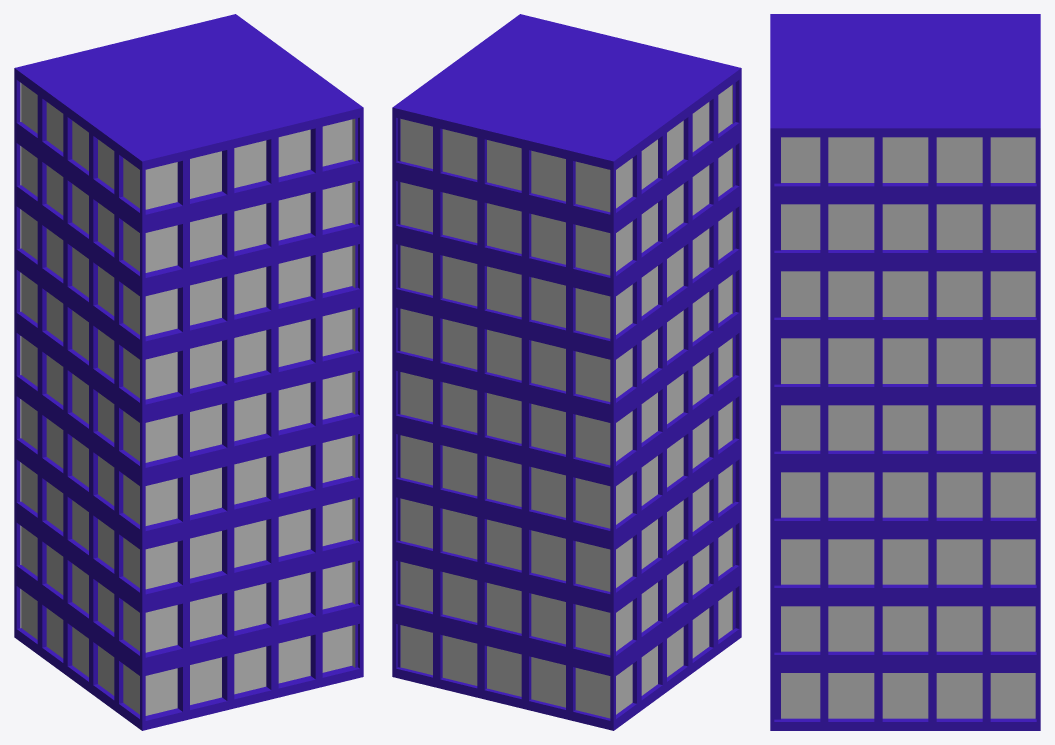
The model's file is BuildingM.obj.
3 views of the same model, side by side, from view 1: azimuth 30°, elevation 25°; view 2: azimuth 150°, elevation 25°; view 3: azimuth 270°, elevation 25° (orthographic). The views are drawn at different scales.
Parts seen in each view (by area): view 1: Cube.105; view 2: Cube.105; view 3: Cube.105.
Part boxes in pixels (x1,y1,x2,y2): Cube.105: (14, 14, 363, 730); Cube.105: (392, 14, 741, 730); Cube.105: (770, 14, 1040, 730).
Size of the model in its own units: 8.84 by 21.74 by 8.84.
